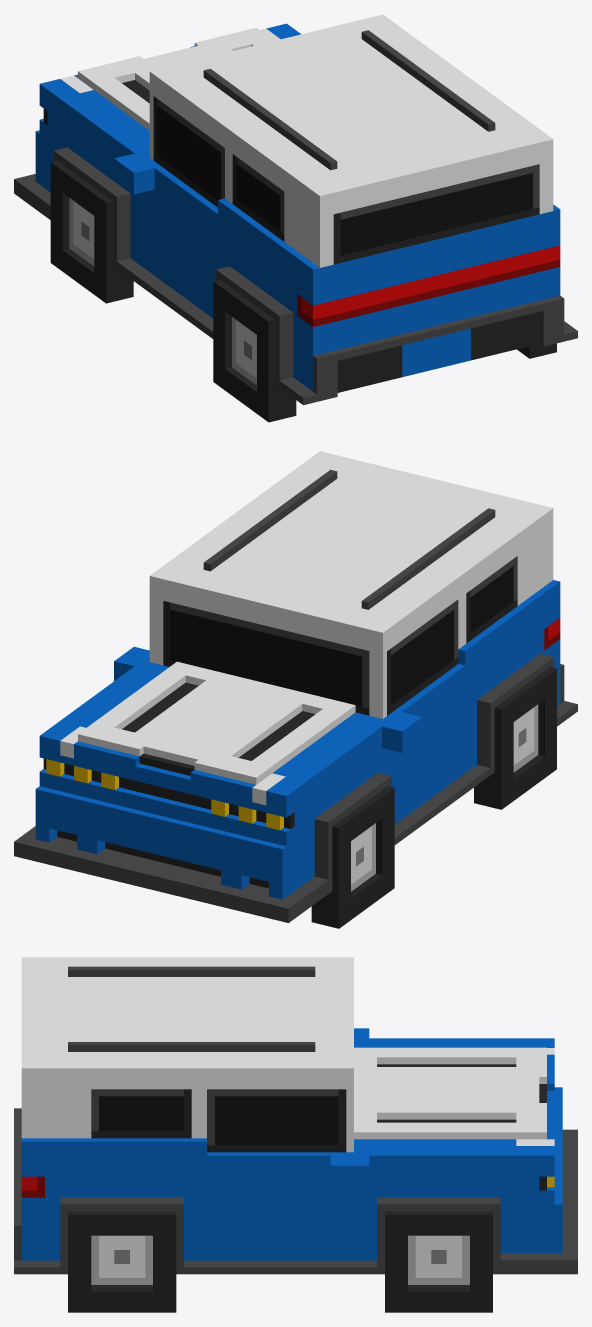
3 renders of one model, top to bottom at view 1: azimuth 30°, elevation 25°; view 2: azimuth 150°, elevation 25°; view 3: azimuth 270°, elevation 25°, orthographic. The views are drawn at different scales.
Visible parts, largest first — view 1: alll cars3-160; view 2: alll cars3-160; view 3: alll cars3-160.
Part boxes in pixels (box(x1,y1,x2,y2)): alll cars3-160: box(14, 14, 577, 422); alll cars3-160: box(14, 451, 577, 928); alll cars3-160: box(14, 957, 577, 1312).
Bounding box in the file's own units: 3.21 × 2.6 × 5.58.
1 material, 1 textured.
